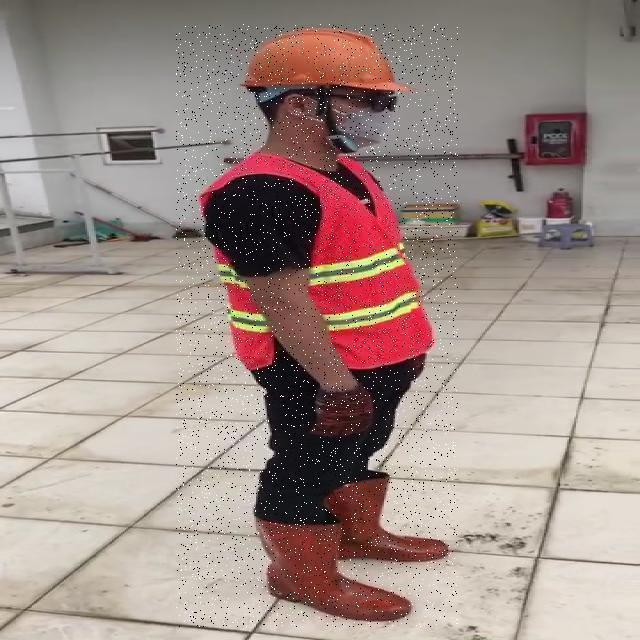vest: (192, 158, 438, 368)
